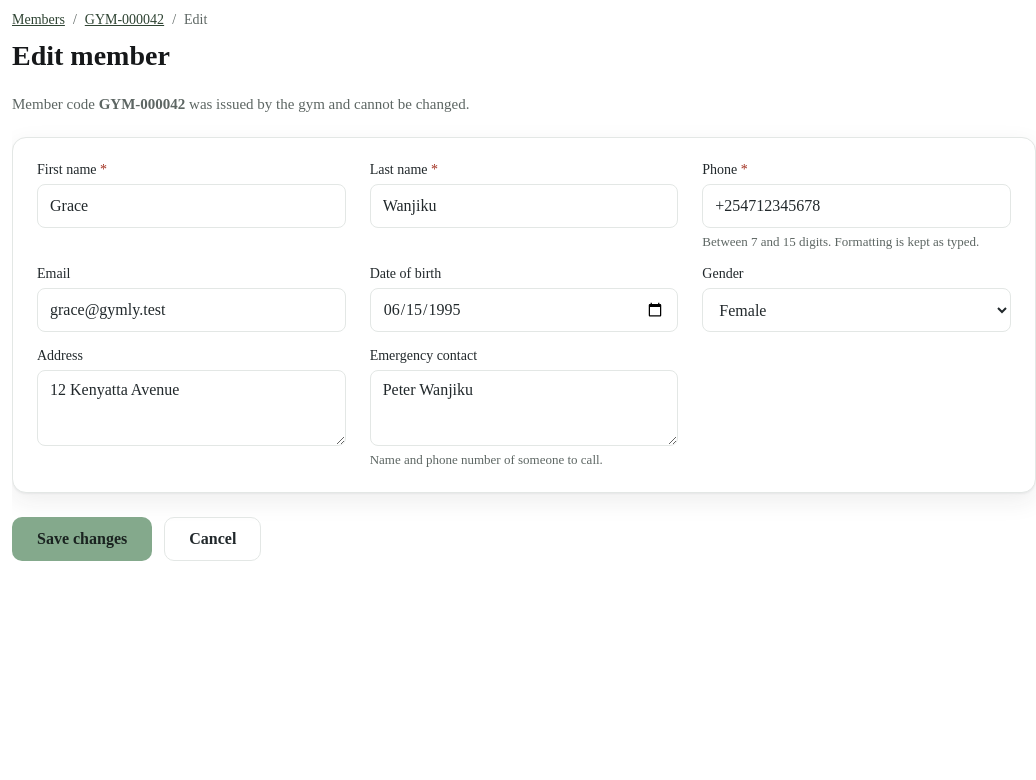
editing a member › refuses an invalid change and keeps the member untouched
Expected: the field showing "Grace" is shown, [37,184,346,228]
Replace the text in the field labelled "Phone *" with "123": (857, 206) [702,184,1011,228]
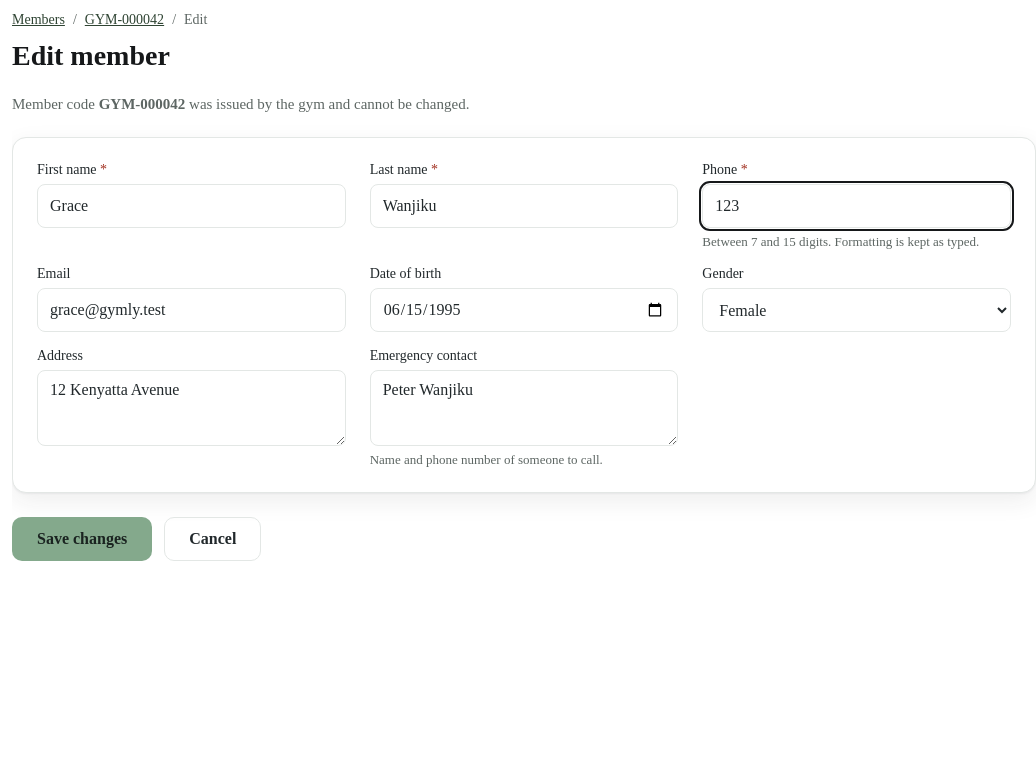
Click the button "Save changes": (82, 539) [12,517,152,561]
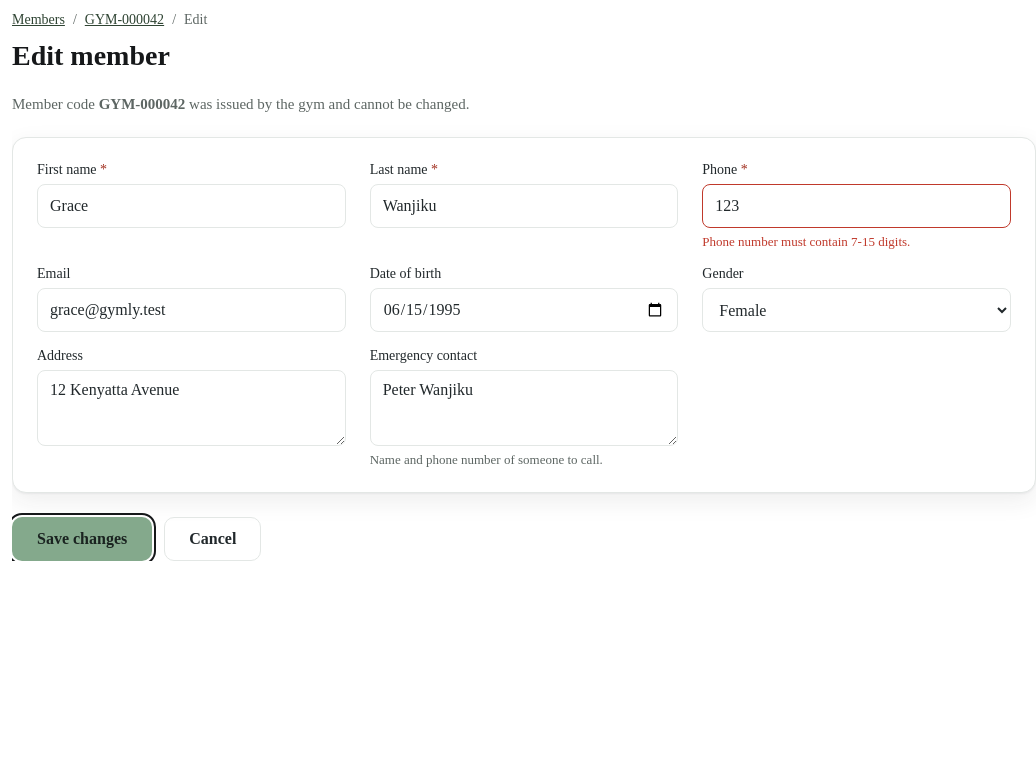
Expected: the text "Phone number must contain 7-15 digits." is shown, [702,234,910,249]
